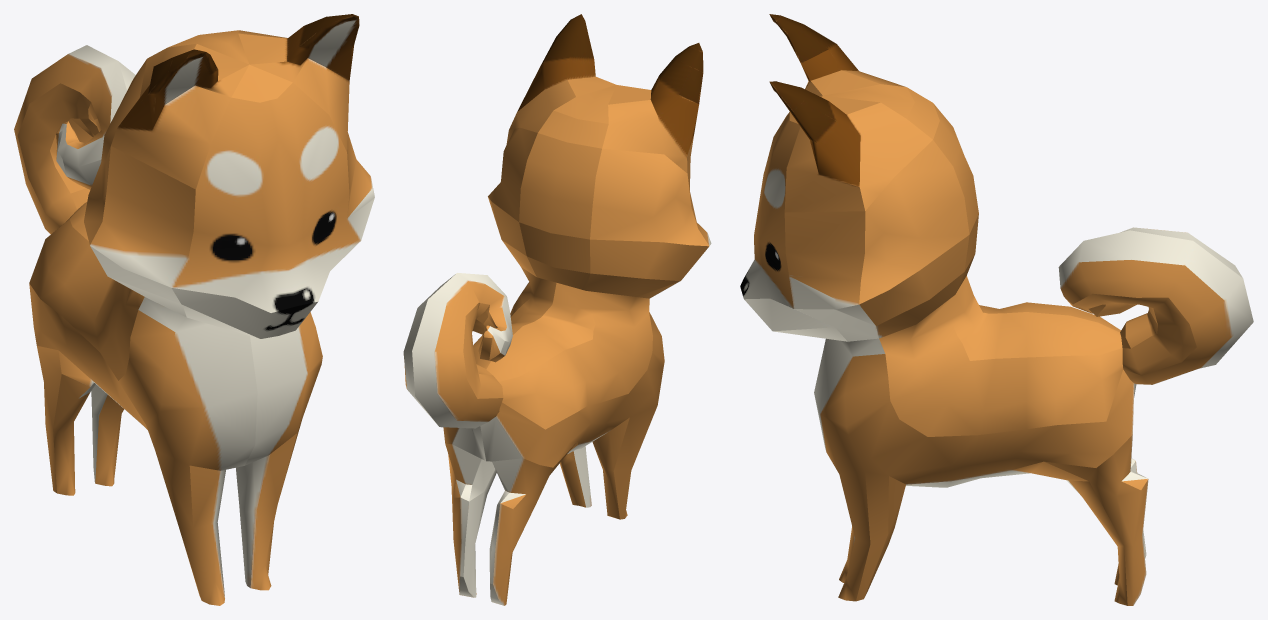
The model's file is tailWagging_frame13.obj.
The picture shows the model from 3 angles, left to right: view 1: azimuth 30°, elevation 25°; view 2: azimuth 150°, elevation 25°; view 3: azimuth 270°, elevation 25°; orthographic projection. The views are drawn at different scales.
Parts seen in each view (by area): view 1: newRigging:BodzL1; view 2: newRigging:BodzL1; view 3: newRigging:BodzL1.
Boxes of the visible parts, left/top/right/bottom form: newRigging:BodzL1: left=14, top=14, right=374, bottom=605; newRigging:BodzL1: left=403, top=14, right=711, bottom=605; newRigging:BodzL1: left=740, top=14, right=1253, bottom=605.
Size of the model in its own units: 3.91 by 7.94 by 6.81.
1 material, 1 textured.
